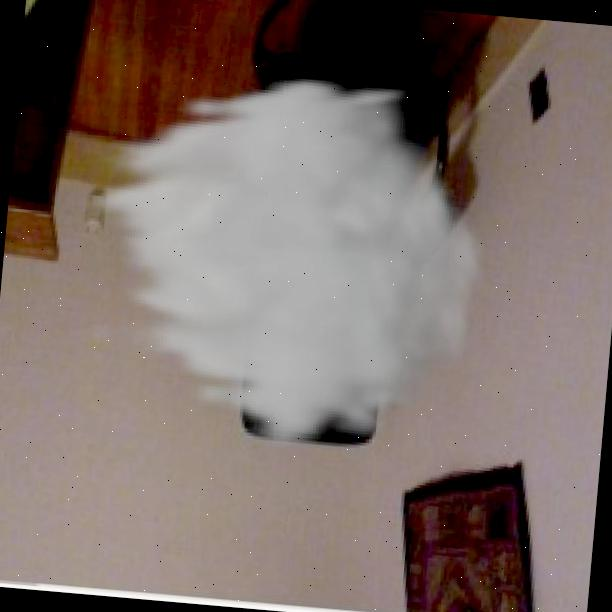smoke: (54, 54, 506, 469)
